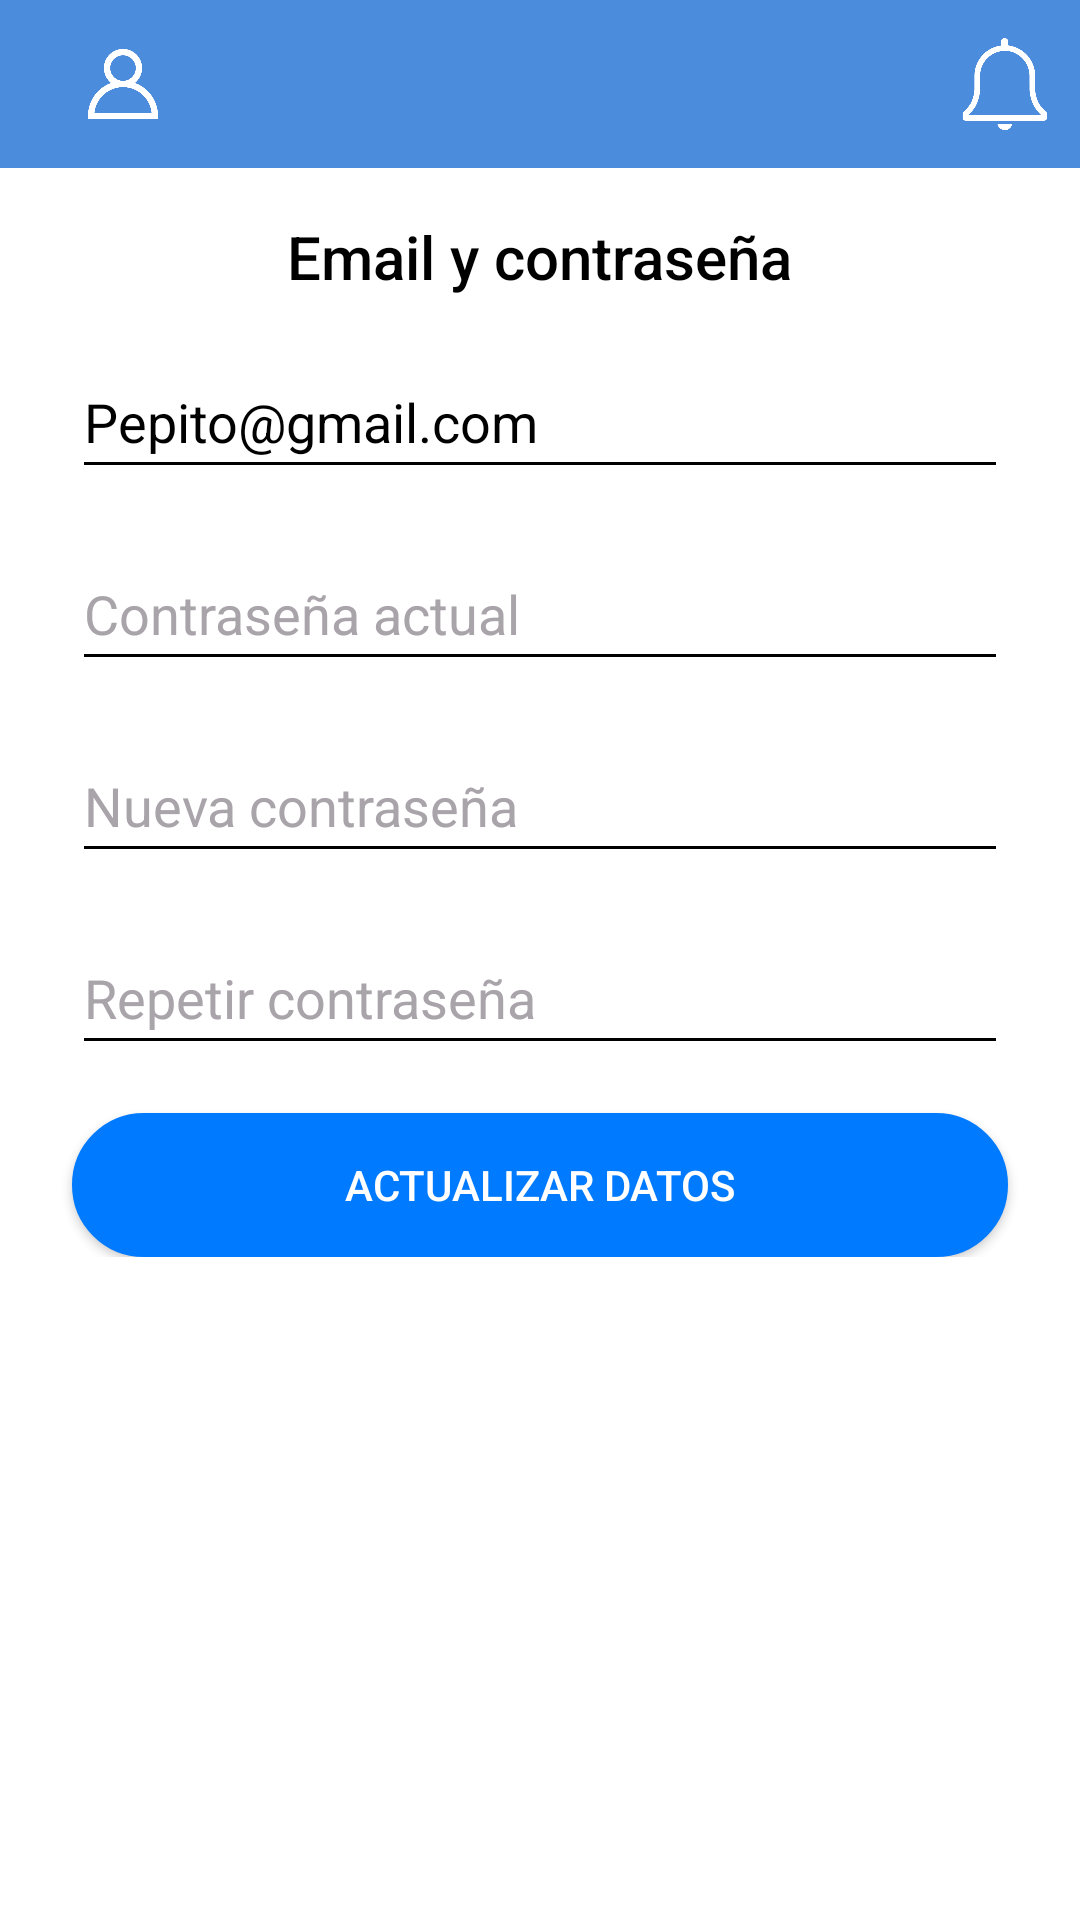

Point at icon controls on the screen. Image size 1080px×1920px, points as (x=x, y=y).
Notification Icon: (x=1005, y=84)
User Icon: (x=123, y=84)
